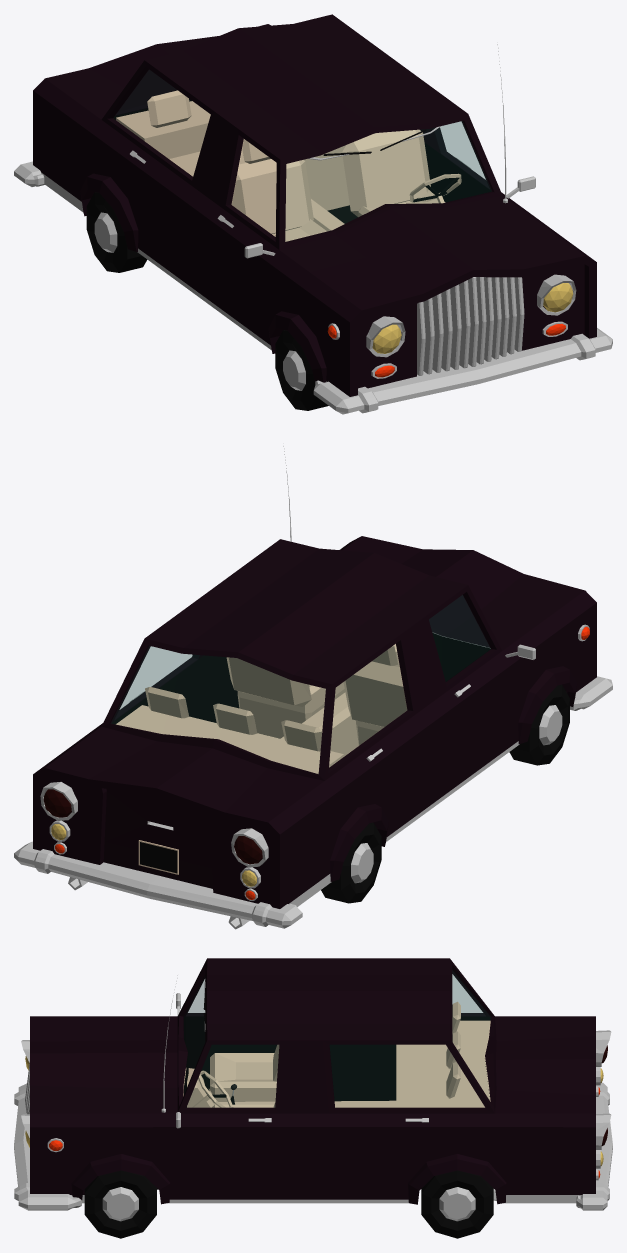
File: Sedan_02.FBX
3 renders of one model, top to bottom at view 1: azimuth 30°, elevation 25°; view 2: azimuth 150°, elevation 25°; view 3: azimuth 270°, elevation 25°, orthographic. The views are drawn at different scales.
Visible parts, largest first — view 1: Sedan_02, interior, grill, bumper_f, wheel_b_r, wheel_f_r, lights, headLights, steeringWheel, bumper_b; view 2: Sedan_02, interior, bumper_b, wheel_b_r, wheel_f_r, lights, tailLights, licensePlate, bumper_f; view 3: Sedan_02, interior, wheel_f_l, wheel_b_l, bumper_f, bumper_b, lights, steeringWheel.
Part boxes in pixels (x1,y1,x2,y2): Sedan_02: (33,14,596,396); interior: (113,70,491,241); grill: (417,277,524,375); bumper_f: (313,328,612,414); wheel_b_r: (86,192,147,272); wheel_f_r: (275,330,328,410); lights: (328,274,576,378); headLights: (372,283,573,353); steeringWheel: (409,173,461,203); bumper_b: (14,161,44,186); Sedan_02: (33,536,596,908); interior: (111,595,490,773); bumper_b: (14,841,302,928); wheel_b_r: (321,822,381,903); wheel_f_r: (509,684,569,765); lights: (40,624,589,900); tailLights: (43,789,262,864); licensePlate: (138,840,178,874); bumper_f: (570,676,612,710); Sedan_02: (30,958,595,1204); interior: (183,971,490,1107); wheel_f_l: (84,1170,156,1238); wheel_b_l: (421,1170,493,1238); bumper_f: (14,1083,81,1210); bumper_b: (576,1082,612,1210); lights: (21,1030,611,1180); steeringWheel: (192,1070,233,1107).
Size of the model in its own units: 27.25 by 25.72 by 54.56.
